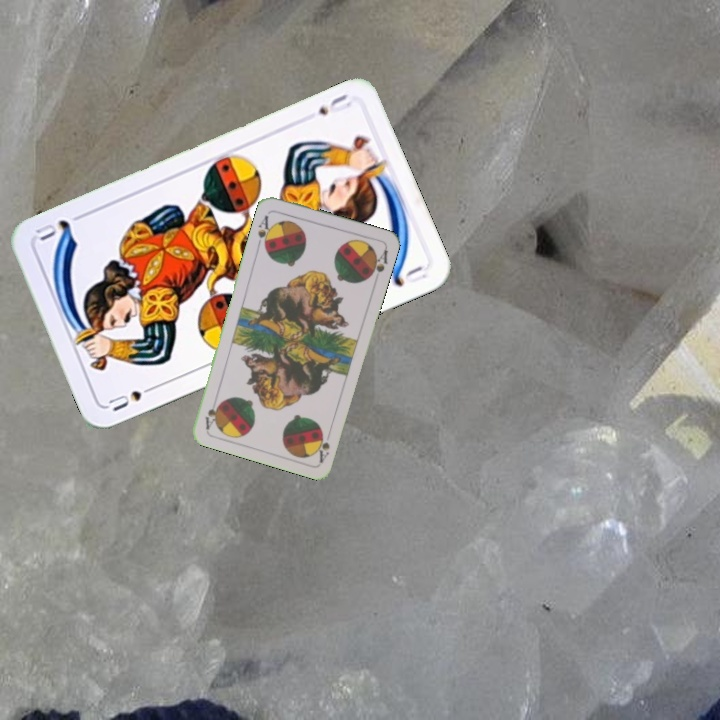SA: (253, 211, 275, 251), (312, 426, 332, 465)
SU: (104, 380, 160, 414), (314, 90, 354, 118)
